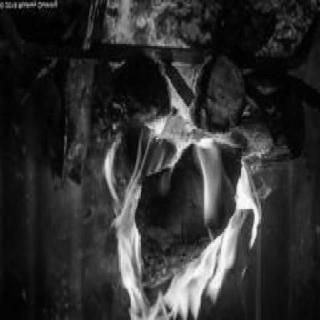Fire: (93, 42, 283, 320)
